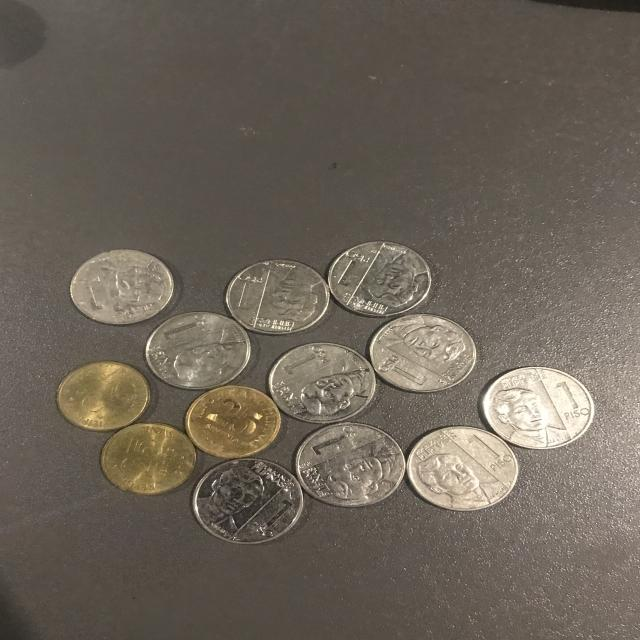1_New_Front: (232, 269, 326, 337), (306, 438, 402, 504), (332, 242, 423, 310), (419, 438, 508, 505), (207, 469, 300, 531), (155, 318, 250, 378), (497, 376, 588, 438), (273, 353, 369, 411), (385, 314, 463, 379)
25Cent_Old_Front: (198, 393, 282, 452), (111, 434, 193, 487)
